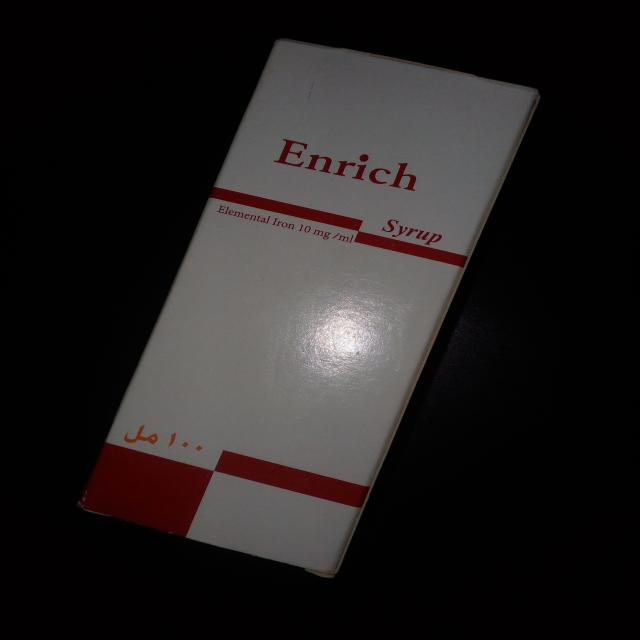Medicine: (81, 37, 545, 581)
